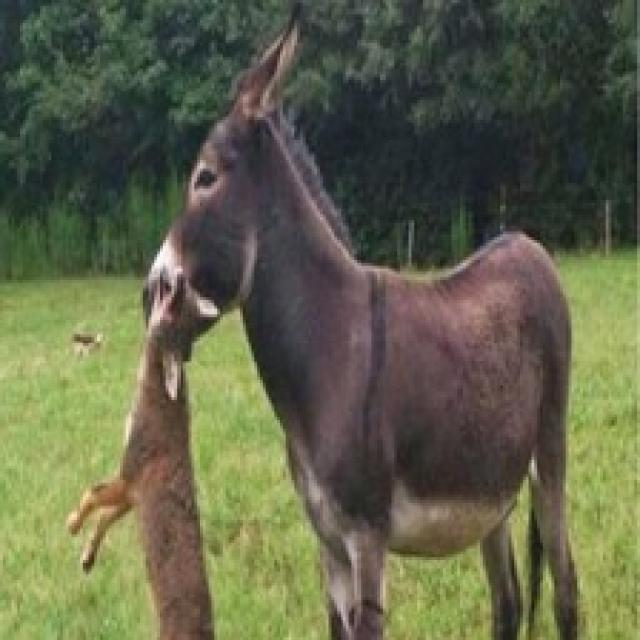Donkey: (143, 0, 583, 637), (62, 260, 228, 637)
